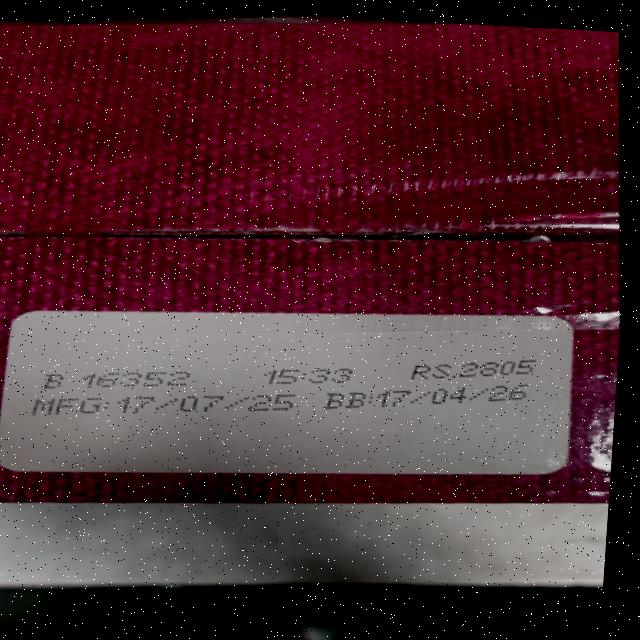BB: (323, 373, 537, 420)
Batch: (40, 362, 197, 397)
MFG: (34, 379, 299, 430)
RS: (407, 353, 540, 386)
TimeStamp: (261, 363, 357, 389)
